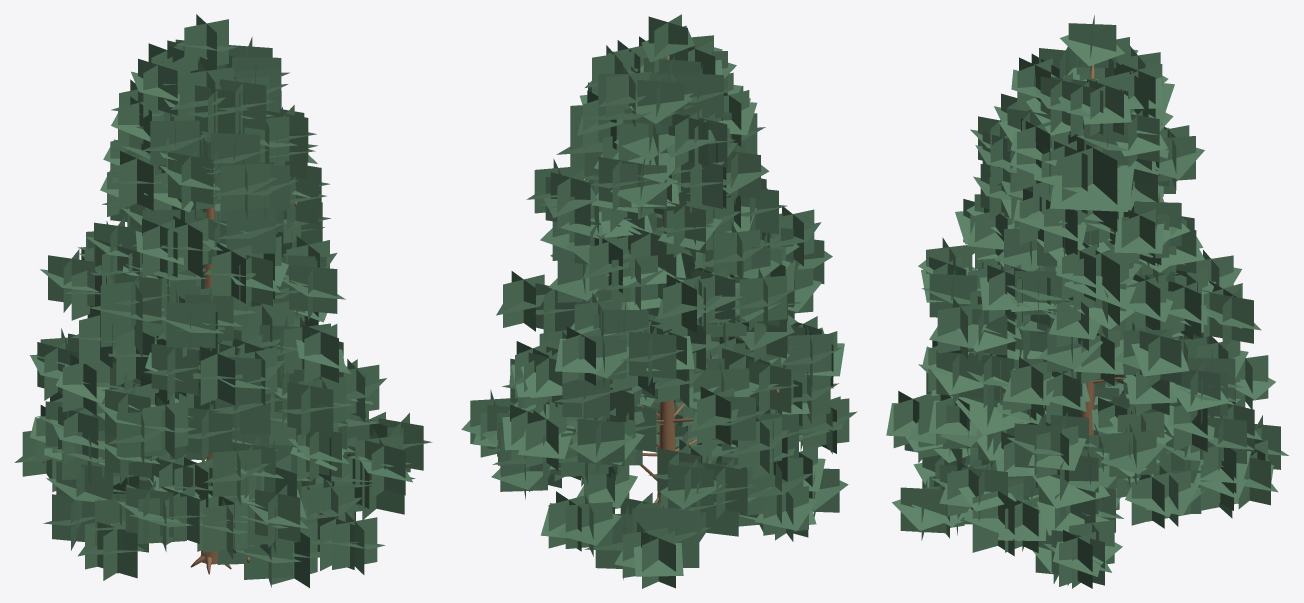
File: pin_1_f3_jeu.glb
The picture shows the model from 3 angles, left to right: view 1: azimuth 30°, elevation 25°; view 2: azimuth 150°, elevation 25°; view 3: azimuth 270°, elevation 25°; orthographic projection. The views are drawn at different scales.
Parts seen in each view (by area): view 1: Pin_T1_f3_Leger; view 2: Pin_T1_f3_Leger; view 3: Pin_T1_f3_Leger.
Part boxes in pixels (x1=…): Pin_T1_f3_Leger: x1=14, y1=14, x2=432, y2=587; Pin_T1_f3_Leger: x1=461, y1=14, x2=857, y2=588; Pin_T1_f3_Leger: x1=886, y1=15, x2=1288, y2=588.
Size of the model in its own units: 5.24 by 7.55 by 5.26.
